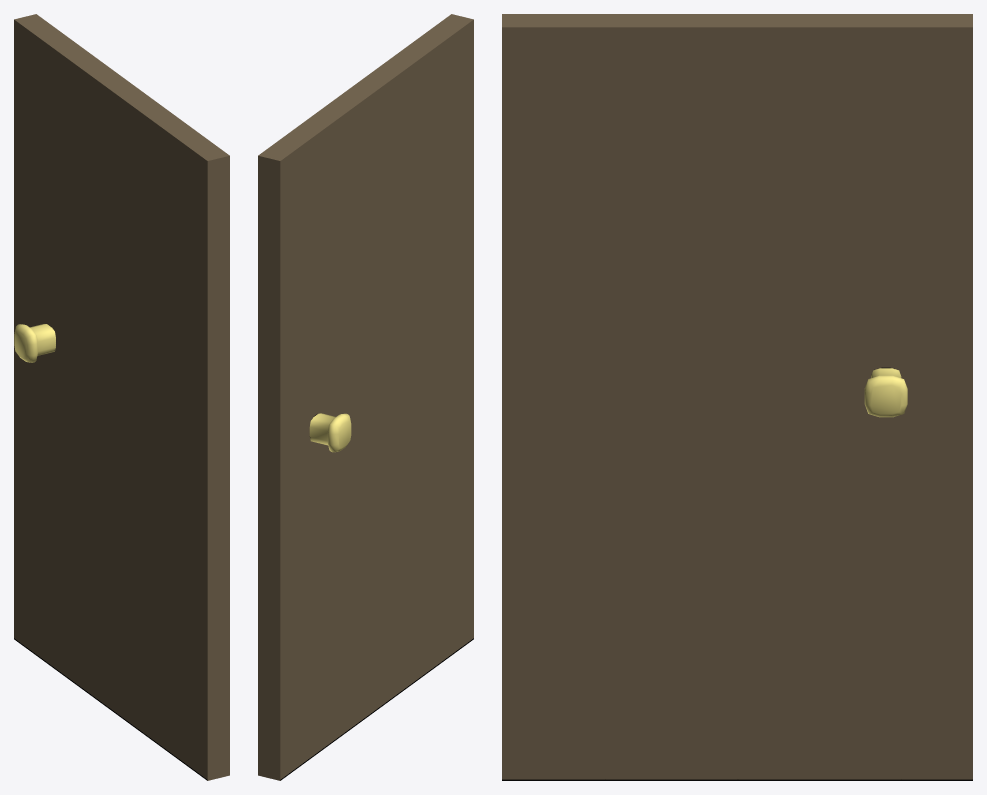
File: door.fbx
3 renders of one model, left to right at view 1: azimuth 30°, elevation 25°; view 2: azimuth 150°, elevation 25°; view 3: azimuth 270°, elevation 25°, orthographic. The views are drawn at different scales.
Visible parts, largest first — view 1: Door; view 2: Door; view 3: Door.
Boxes of the visible parts, bbox=[...] form: Door: bbox=[14, 14, 229, 780]; Door: bbox=[258, 14, 473, 780]; Door: bbox=[502, 14, 972, 780].
Size of the model in its own units: 0.36 by 2.65 by 1.5.
Materials: 1 (1 with a texture image).
